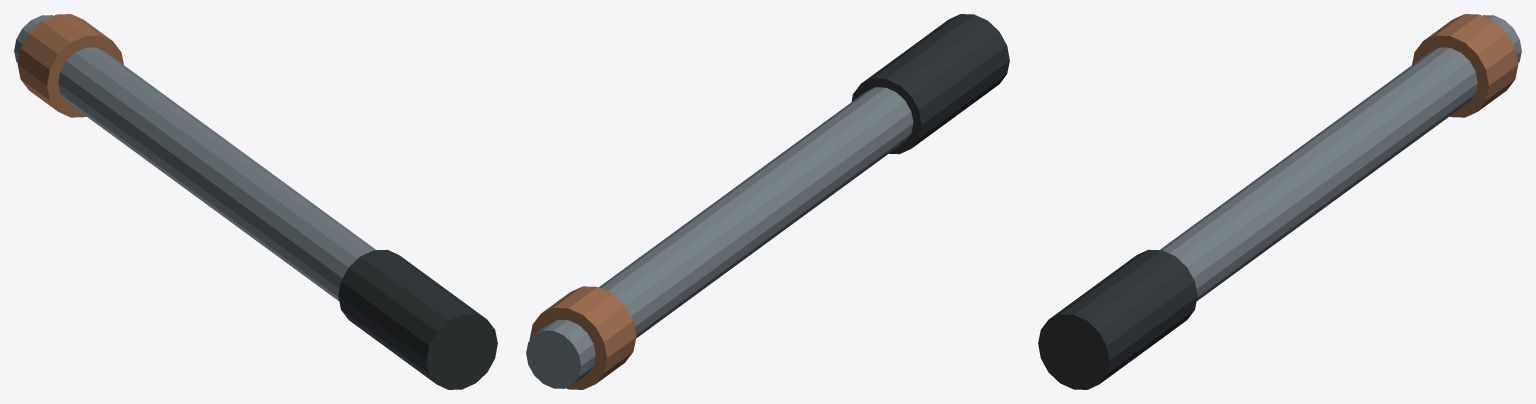
The model's file is held_pipe.glb.
3 renders of one model, left to right at view 1: azimuth 30°, elevation 25°; view 2: azimuth 150°, elevation 25°; view 3: azimuth 330°, elevation 25°, orthographic.
Visible parts, largest first — view 1: Cylinder, Cylinder.002, Cylinder.001; view 2: Cylinder, Cylinder.002, Cylinder.001; view 3: Cylinder, Cylinder.002, Cylinder.001.
Boxes of the visible parts, bbox=[...] form: Cylinder: bbox=[14, 15, 376, 300]; Cylinder.002: bbox=[338, 249, 497, 389]; Cylinder.001: bbox=[17, 14, 123, 117]; Cylinder: bbox=[526, 87, 913, 388]; Cylinder.002: bbox=[851, 14, 1009, 154]; Cylinder.001: bbox=[529, 286, 636, 389]; Cylinder: bbox=[1159, 15, 1521, 300]; Cylinder.002: bbox=[1038, 249, 1197, 389]; Cylinder.001: bbox=[1412, 14, 1518, 117].
Size of the model in its own units: 0.076 by 0.076 by 0.715.
